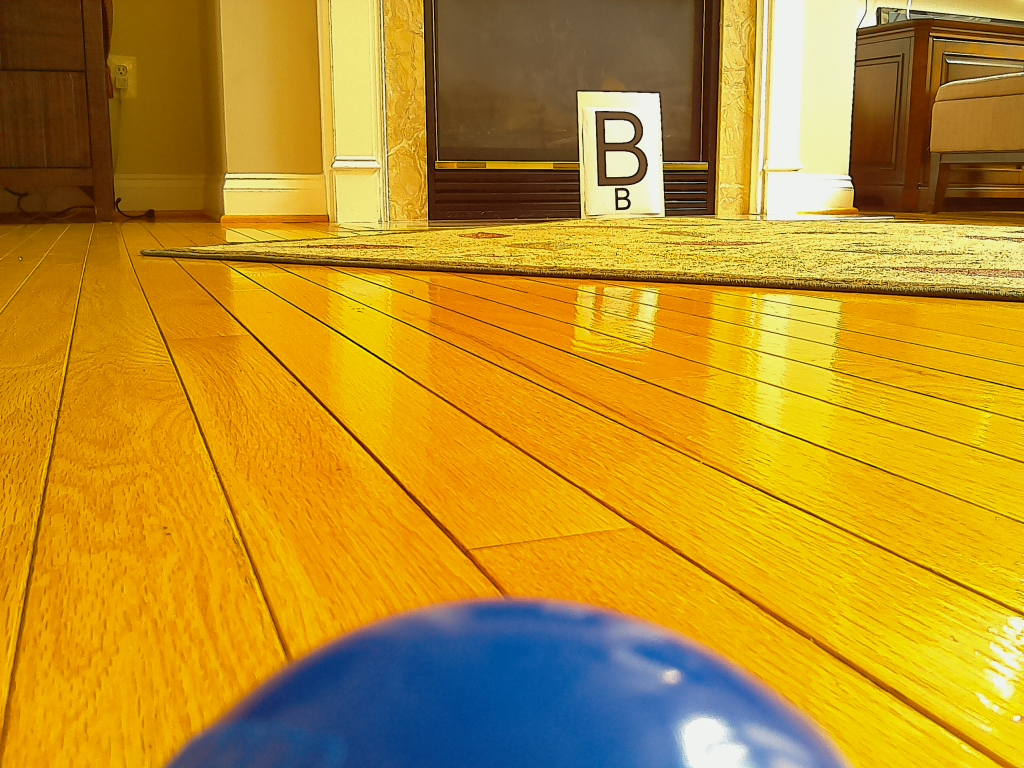letter: (594, 111, 648, 187)
